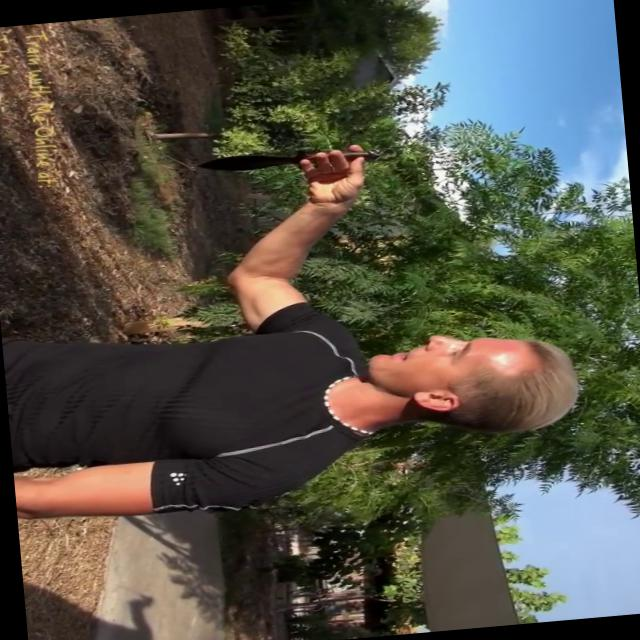knife: (183, 138, 386, 180)
